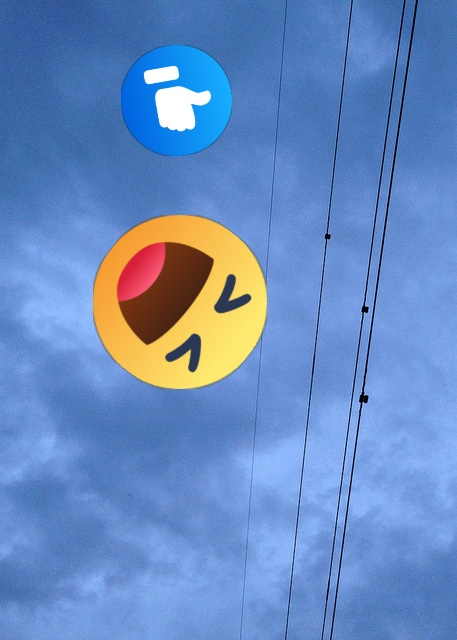haha: (93, 215, 267, 389)
like: (121, 45, 232, 156)
